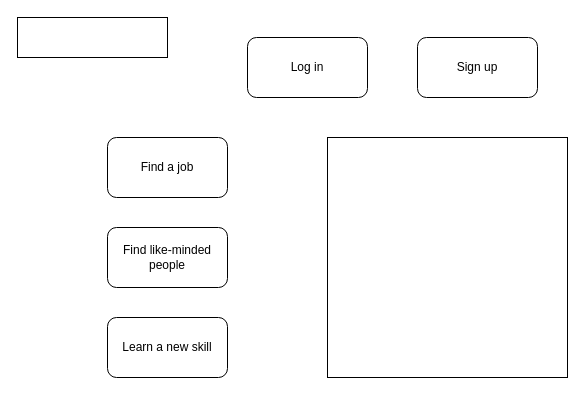
Image size: 585x395. Some labels were removed from this diagram. Each missing label, with the centre of its shape:
"graphic here" goes at point (447, 257).
"Home page: before log in/sign up" goes at point (92, 37).
